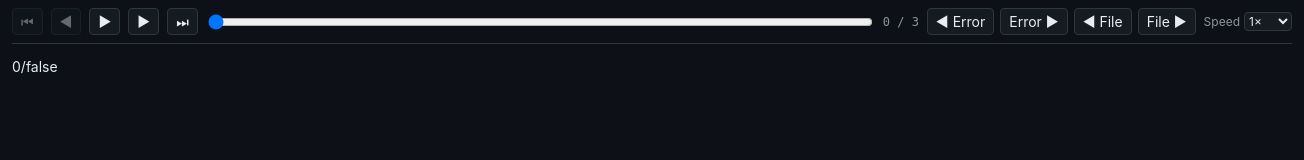
Scenario: ReplayControls › jumps to the next/previous error
Click the button with aria-label "Next error" at (1034, 22), box [1000, 8, 1068, 35]
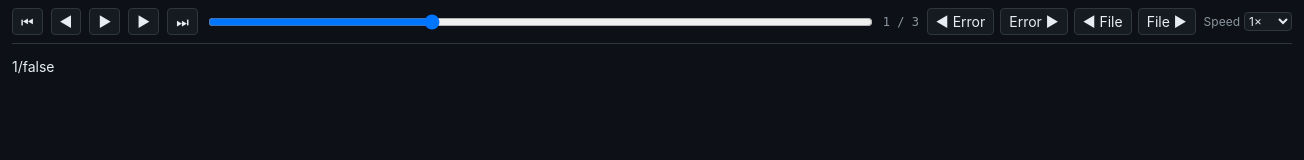
Expected: the text with test id "state" reads "1/false", [12, 58, 54, 75]
Click the button named "Last step" at (182, 22), box [167, 8, 198, 35]
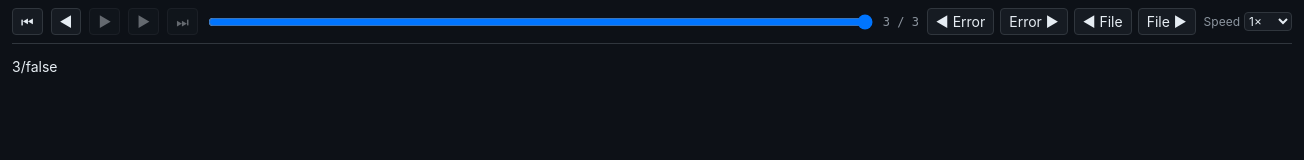
Click the button with aria-label "Previous error" at (961, 22), box [927, 8, 994, 35]
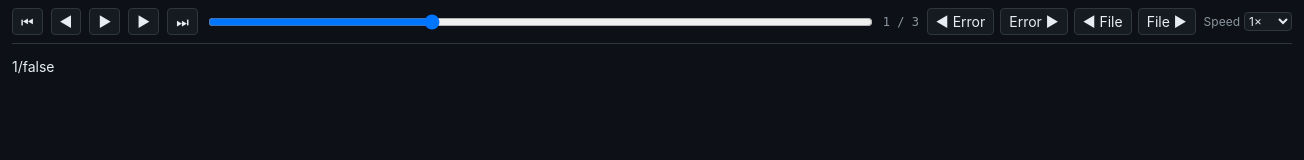
Expected: the text with test id "state" reads "1/false", [12, 58, 54, 75]
